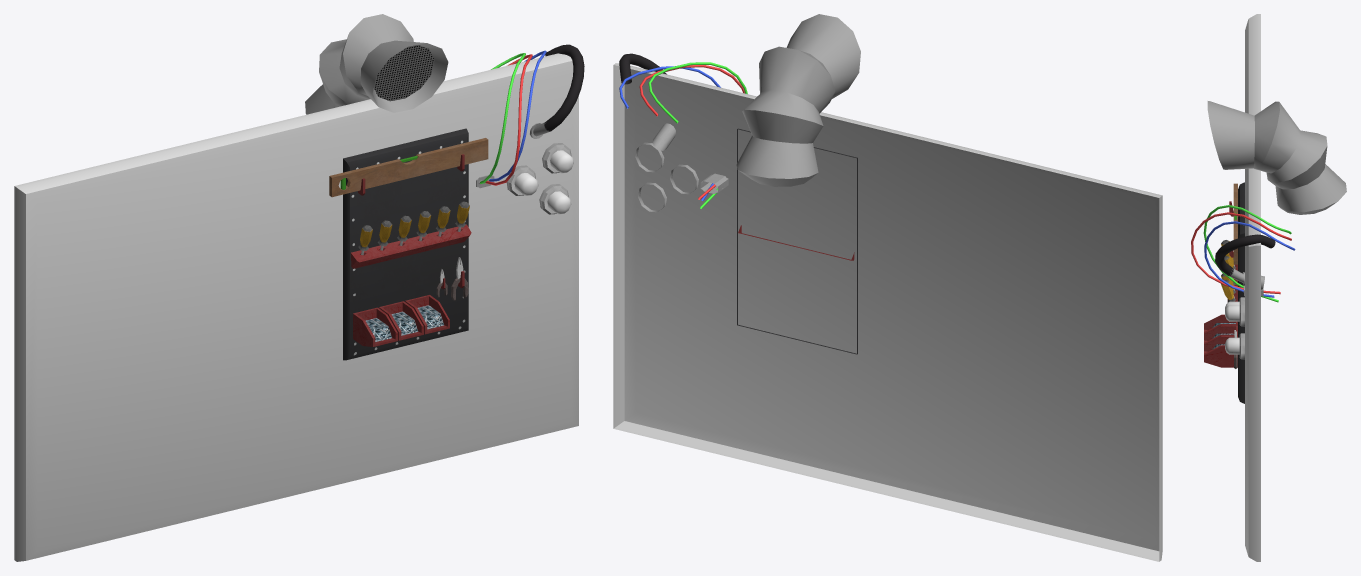
Rendered from ScianaRzeczy.fbx.
3 views of the same model, side by side, from view 1: azimuth 30°, elevation 25°; view 2: azimuth 150°, elevation 25°; view 3: azimuth 270°, elevation 25° (orthographic). The views are drawn at different scales.
Visible parts, largest first — view 1: Plyta, Plyta.001, BézierCurve.004, Cube.007, Plyta.002, BézierCurve.003, Cube.006, Cube.009, Cube.008; view 2: Plyta, BézierCurve.004, BézierCurve.003; view 3: BézierCurve.004, Plyta, BézierCurve.003, Plyta.001, Cube.009, BézierCurve, BézierCurve.002, BézierCurve.001, Cube.008, Cube.007, Cube.006, ButtonSquare.005 (+1 smaller).
Part boxes in pixels (box(x1,y1,x2,y2)): Plyta: box(14, 53, 578, 561); Plyta.001: box(343, 128, 468, 360); BézierCurve.004: box(305, 14, 448, 114); Cube.007: box(329, 138, 488, 197); Plyta.002: box(350, 224, 471, 268); BézierCurve.003: box(530, 44, 584, 138); Cube.006: box(353, 307, 397, 346); Cube.009: box(405, 295, 449, 334); Cube.008: box(379, 301, 423, 340); Plyta: box(613, 63, 1162, 561); BézierCurve.004: box(736, 14, 860, 186); BézierCurve.003: box(619, 53, 676, 150); BézierCurve.004: box(1207, 101, 1346, 214); Plyta: box(1245, 14, 1260, 561); BézierCurve.003: box(1215, 234, 1275, 289); Plyta.001: box(1238, 182, 1244, 403); Cube.009: box(1204, 336, 1237, 367); BézierCurve: box(1191, 212, 1291, 294); BézierCurve.002: box(1204, 221, 1295, 297); BézierCurve.001: box(1203, 205, 1291, 302); Cube.008: box(1204, 325, 1237, 344); Cube.007: box(1233, 183, 1237, 264); Cube.006: box(1204, 314, 1237, 333); ButtonSquare.005: box(1225, 304, 1239, 321).
Bounding box in the file's own units: 465 × 355 × 132.
